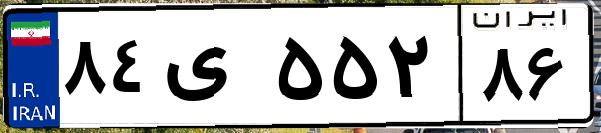2: (385, 28, 445, 110)
4: (110, 28, 158, 98)
5: (270, 28, 330, 110), (330, 28, 385, 110)
6: (525, 38, 570, 115)
8: (57, 26, 110, 100), (475, 38, 525, 113)
ی: (158, 20, 270, 120)
